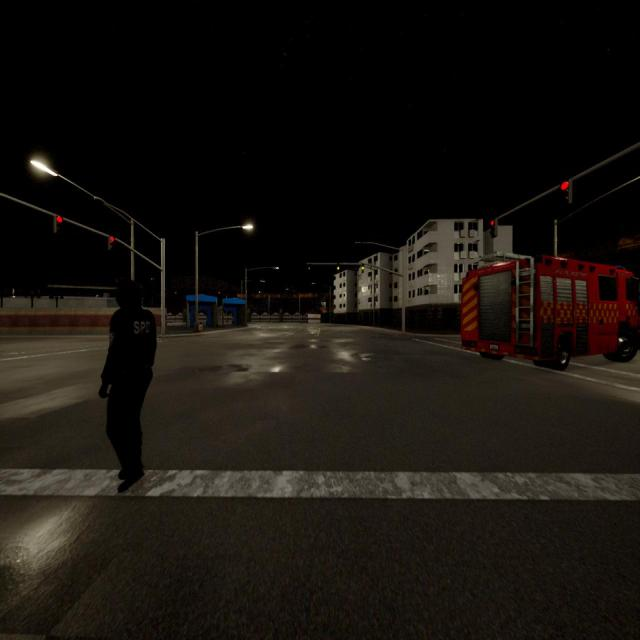Pedestrian: (98, 279, 156, 492), (199, 322, 202, 336)
Vehicle: (461, 256, 639, 369)
traffic_light: (560, 182, 572, 204), (490, 220, 498, 237), (54, 216, 62, 232), (108, 237, 114, 250), (362, 263, 364, 273), (338, 264, 340, 270), (309, 264, 310, 270)
